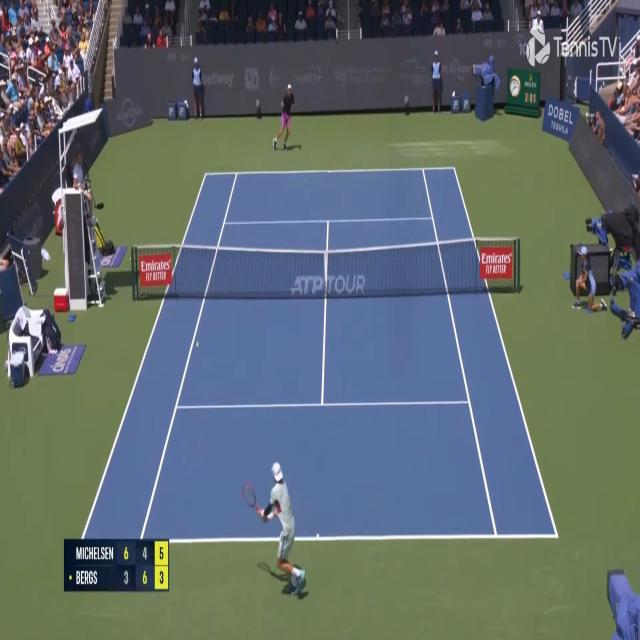tennis-player: (240, 458, 306, 595), (274, 82, 294, 154)
